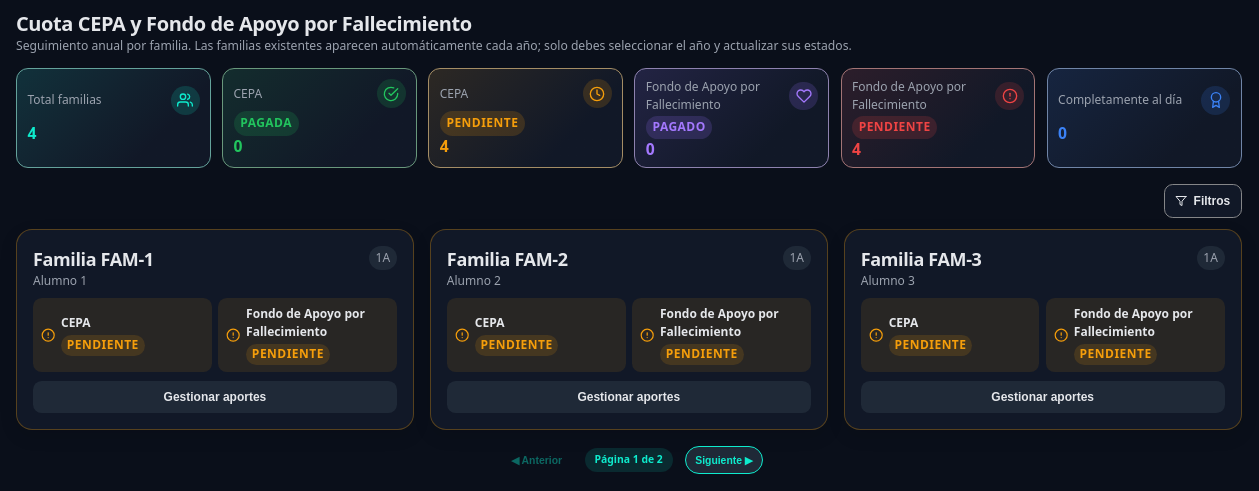
FamilyContributionsPage › pagina los aportes de tres en tres
Expected: the heading "Familia FAM-1" is shown, [33, 246, 154, 273]
Expected: the heading "Familia FAM-3" is shown, [861, 246, 982, 273]
Click the button "Siguiente ▶" at (724, 460), box [685, 446, 763, 474]
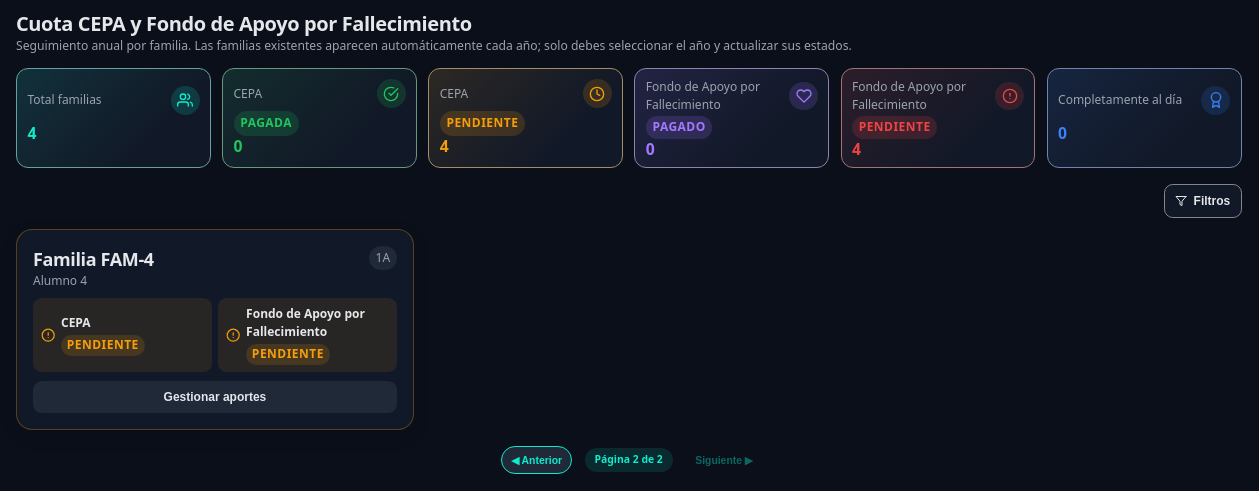
Expected: the heading "Familia FAM-4" is shown, [33, 246, 154, 273]
Expected: the heading "Familia FAM-1" is gone
Expected: the text "Página 2 de 2" is shown, [585, 448, 673, 472]
